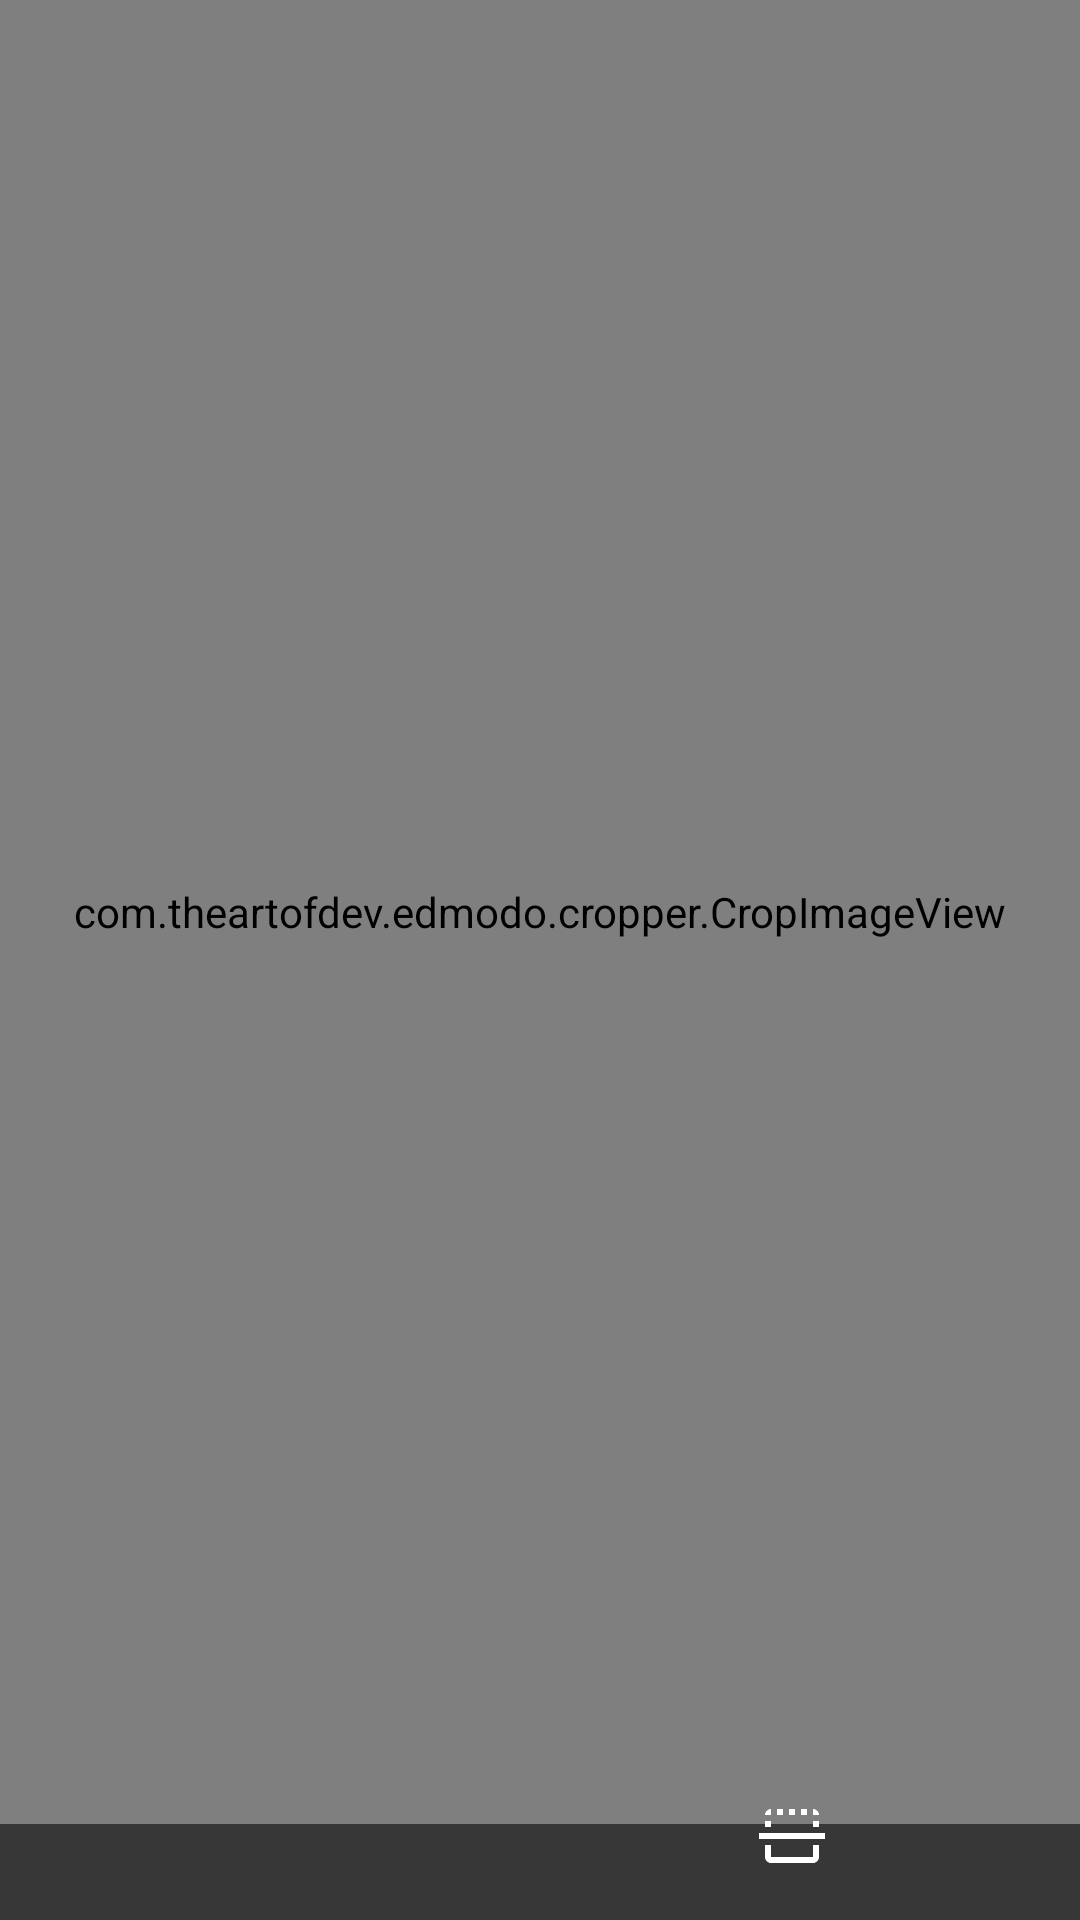

Where to tap for icons on this 1080*1920 app screen, as point (x, y):
flip top bottom: point (792, 1836)
